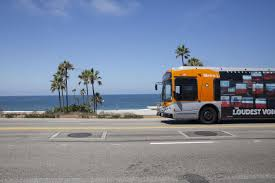bus: (154, 65, 275, 123)
